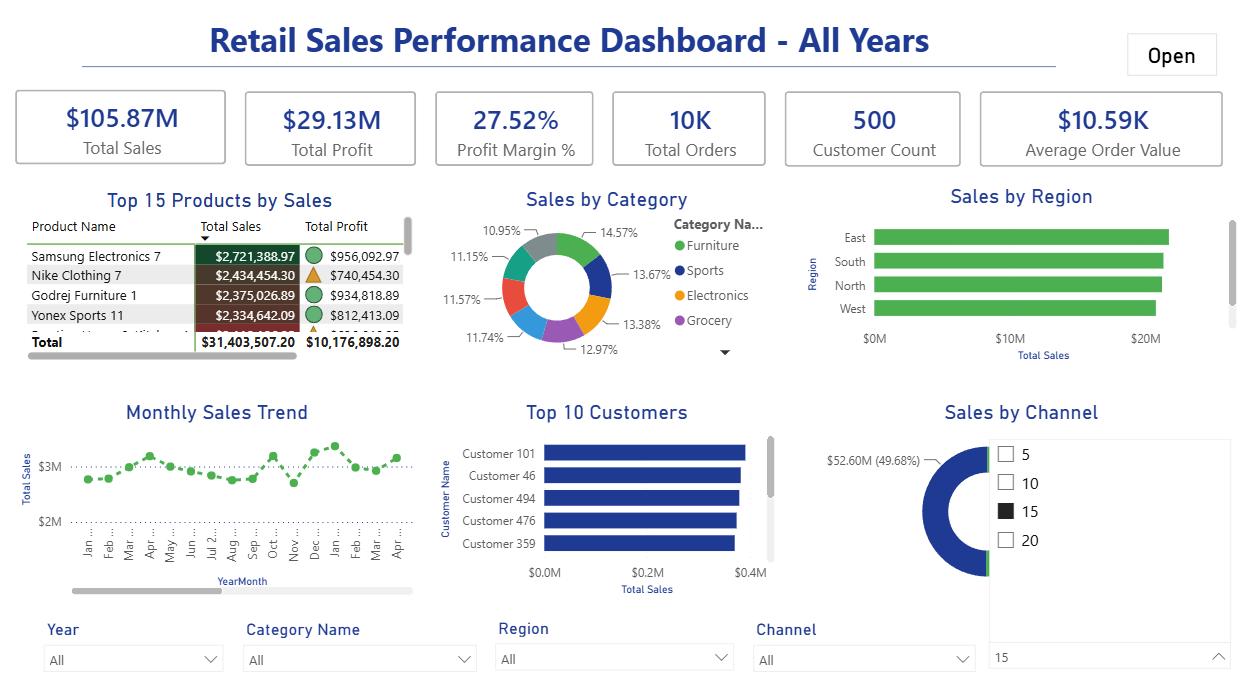

What the dashboard file says about the page in this screenshot:
{"tool":"powerbi","page":{"name":"Retail sales Dashboard","canvas":[1280,720],"ordinal":0},"visuals":[{"type":"cardVisual","fields":{"Data":["_Measures.Total Sales"]},"box":[0,81.1,248.3,110],"z":0},{"type":"cardVisual","fields":{"Data":["_Measures.Total Profit"]},"box":[233,81.7,208.3,110],"z":1000},{"type":"cardVisual","fields":{"Data":["_Measures.Profit Margin %"]},"box":[426,81.7,195,110],"z":2000},{"type":"cardVisual","fields":{"Data":["_Measures.Total Orders"]},"box":[605.6,81.7,190,110],"z":3000},{"type":"cardVisual","fields":{"Data":["_Measures.Customer Count"]},"box":[780.2,81.7,213.3,111.7],"z":4000},{"type":"cardVisual","fields":{"Data":["_Measures.Average Order Value"]},"box":[978.2,81.7,281.5,111.3],"z":5000},{"type":"textbox","box":[85.8,24.7,988,56.1],"z":6000},{"type":"lineChart","title":"Monthly Sales Trend","fields":{"Category":["Date.YearMonth"],"Y":["_Measures.Total Sales"]},"box":[18.1,412.4,407.4,202.9],"z":7000},{"type":"donutChart","title":"Sales by Category","fields":{"Category":["Categories.Category Name"],"Y":["_Measures.Total Sales"]},"box":[442.1,196.3,349.7,181.4],"z":8000},{"type":"pivotTable","fields":{"Rows":["Products.Product Name"],"Values":["_Measures.Total Sales","_Measures.Total Profit","_Measures.Show Top N"]},"box":[24.7,197.9,400.8,179.8],"z":8500},{"type":"clusteredBarChart","title":"Sales by Region","fields":{"Category":["Regions.Region"],"Y":["_Measures.Total Sales"]},"box":[814.8,193,445.4,184.7],"z":9000},{"type":"clusteredBarChart","title":"Top 10 Customers","fields":{"Category":["Customers.Customer Name"],"Y":["_Measures.Total Sales"]},"box":[442.1,412.4,349.7,202.9],"z":10000},{"type":"donutChart","title":"Sales by Channel","fields":{"Category":["Sales.Channel"],"Y":["_Measures.Total Sales"]},"box":[815,411.7,445,203.3],"z":11000},{"type":"slicer","title":"Year mode slicer","fields":{"Values":["Date.Date.Variation.Date Hierarchy.Year"]},"box":[36.7,630,201.7,71.7],"z":12000},{"type":"slicer","title":"Category name slicer","fields":{"Values":["Categories.Category Name"]},"box":[238.3,630,256.7,76.7],"z":13000},{"type":"slicer","title":"Region mode slicer","fields":{"Values":["Regions.Region"]},"box":[495,628.3,261.7,78.3],"z":14000},{"type":"slicer","title":"Channel mode slicer","fields":{"Values":["Sales.Channel"]},"box":[756.7,630,245,71.7],"z":15000},{"type":"actionButton","title":"Open button","box":[1144.7,41.2,90.7,42.9],"z":21000},{"type":"slicer","fields":{"Values":["TopN.TopN"]},"box":[994.1,629.9,265.6,76.3],"z":25000}]}

Visuals, with their boxes in screenshot pixels (x1, y1, x2, y2), scaled from the page's 1280x720 canvas onto the 1257x694 screenshot:
cardVisual - _Measures.Total Sales: rect(0, 78, 244, 184)
cardVisual - _Measures.Total Profit: rect(229, 79, 433, 185)
cardVisual - _Measures.Profit Margin %: rect(418, 79, 610, 185)
cardVisual - _Measures.Total Orders: rect(595, 79, 781, 185)
cardVisual - _Measures.Customer Count: rect(766, 79, 976, 186)
cardVisual - _Measures.Average Order Value: rect(961, 79, 1237, 186)
textbox: rect(84, 24, 1055, 78)
"Monthly Sales Trend" lineChart: rect(18, 398, 418, 593)
"Sales by Category" donutChart: rect(434, 189, 778, 364)
pivotTable - Products.Product Name x _Measures.Total Sales: rect(24, 191, 418, 364)
"Sales by Region" clusteredBarChart: rect(800, 186, 1238, 364)
"Top 10 Customers" clusteredBarChart: rect(434, 398, 778, 593)
"Sales by Channel" donutChart: rect(800, 397, 1237, 593)
"Year mode slicer" slicer: rect(36, 607, 234, 676)
"Category name slicer" slicer: rect(234, 607, 486, 681)
"Region mode slicer" slicer: rect(486, 606, 743, 681)
"Channel mode slicer" slicer: rect(743, 607, 984, 676)
"Open button" actionButton: rect(1124, 40, 1213, 81)
slicer - TopN.TopN: rect(976, 607, 1237, 681)
